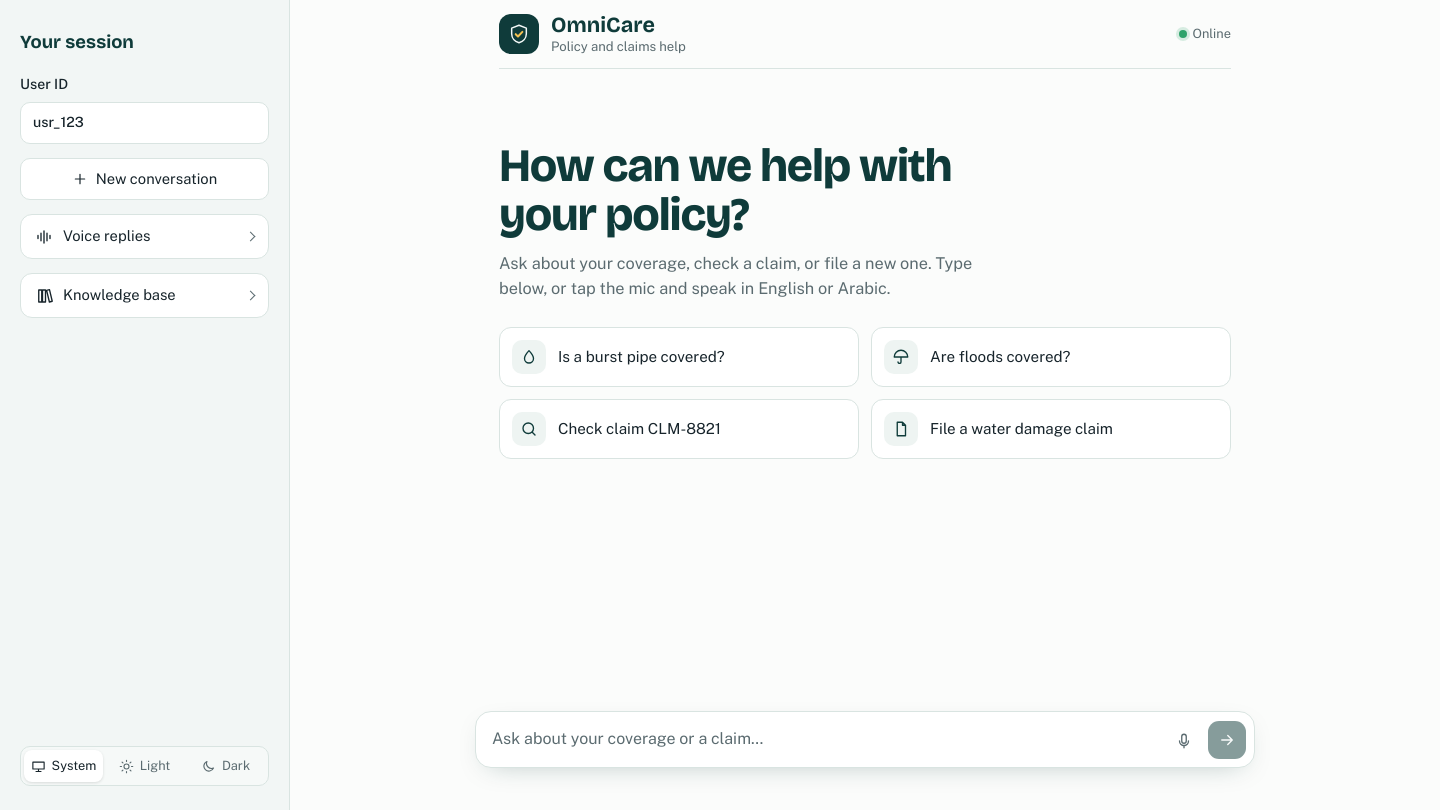
Scenario: records, transcribes and asks; the recording stays playable
Step 1. Click the button named "Ask by voice" → (1184, 741), box [1166, 723, 1202, 759]
(page scrolled)
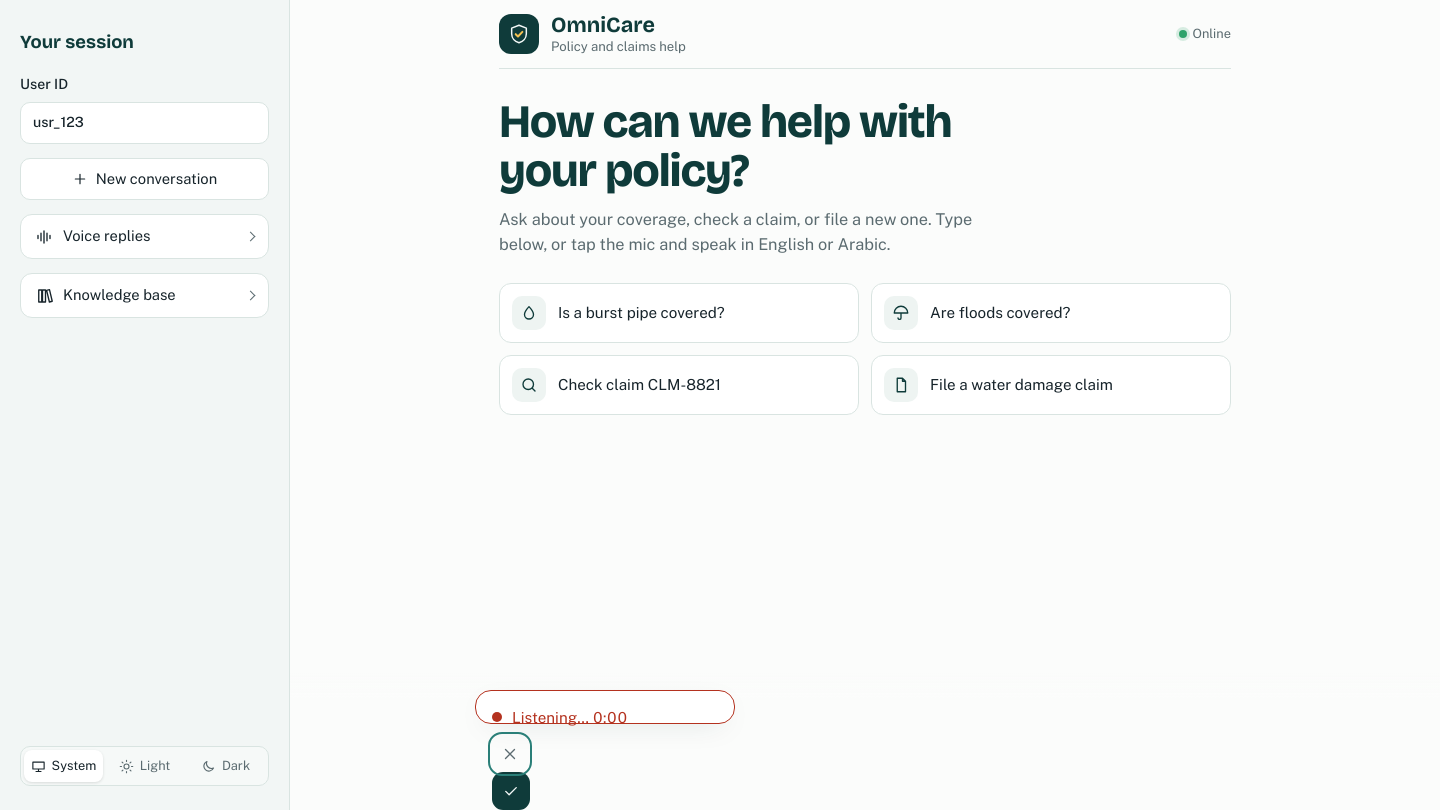
Now the text "Listening… 0:00" is shown, box [492, 709, 628, 726]
Step 2. Click the button named "Send recording" → (511, 791), box [492, 772, 530, 809]
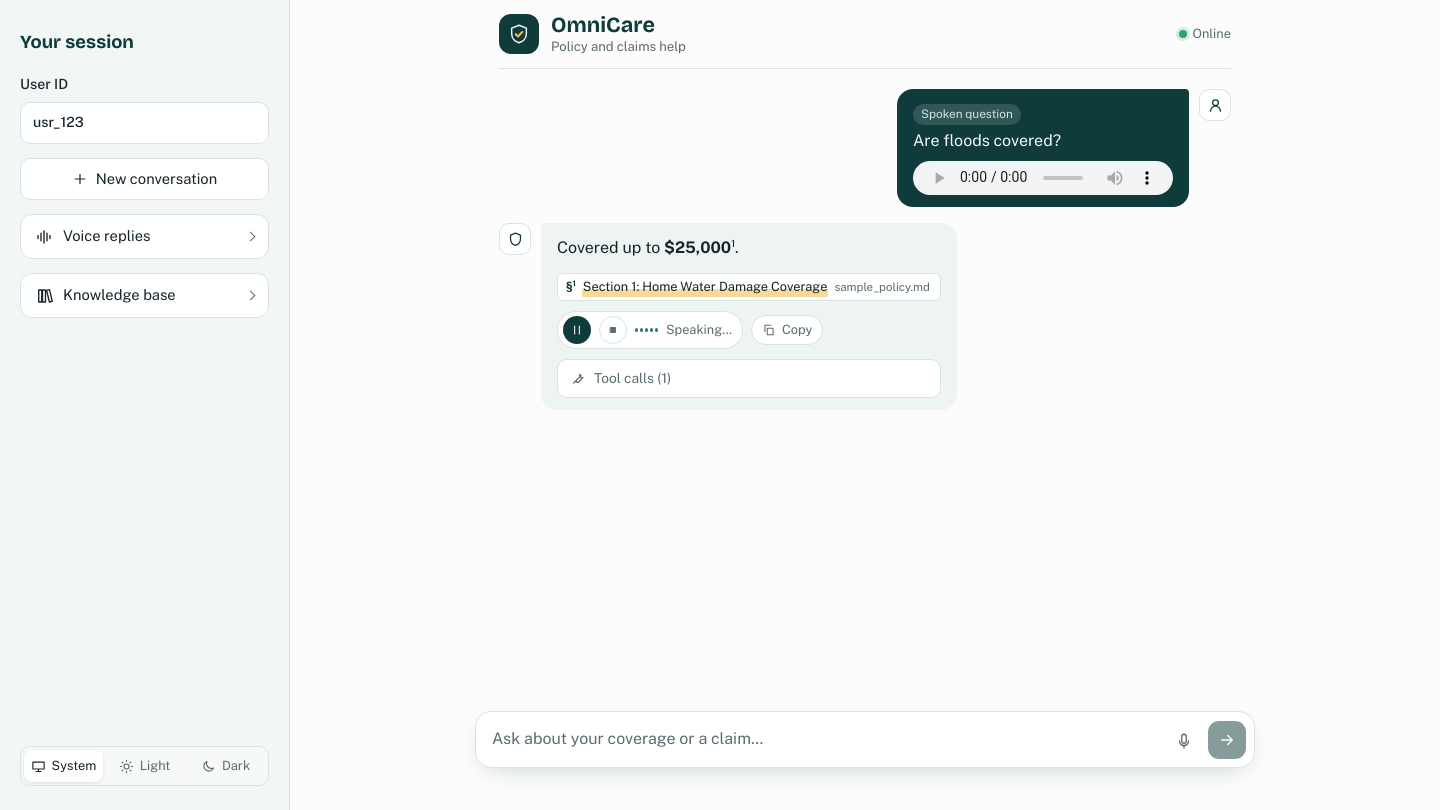
Now the element with test id "message" reads "Spoken question Are floods covered?", box [897, 89, 1231, 207]
